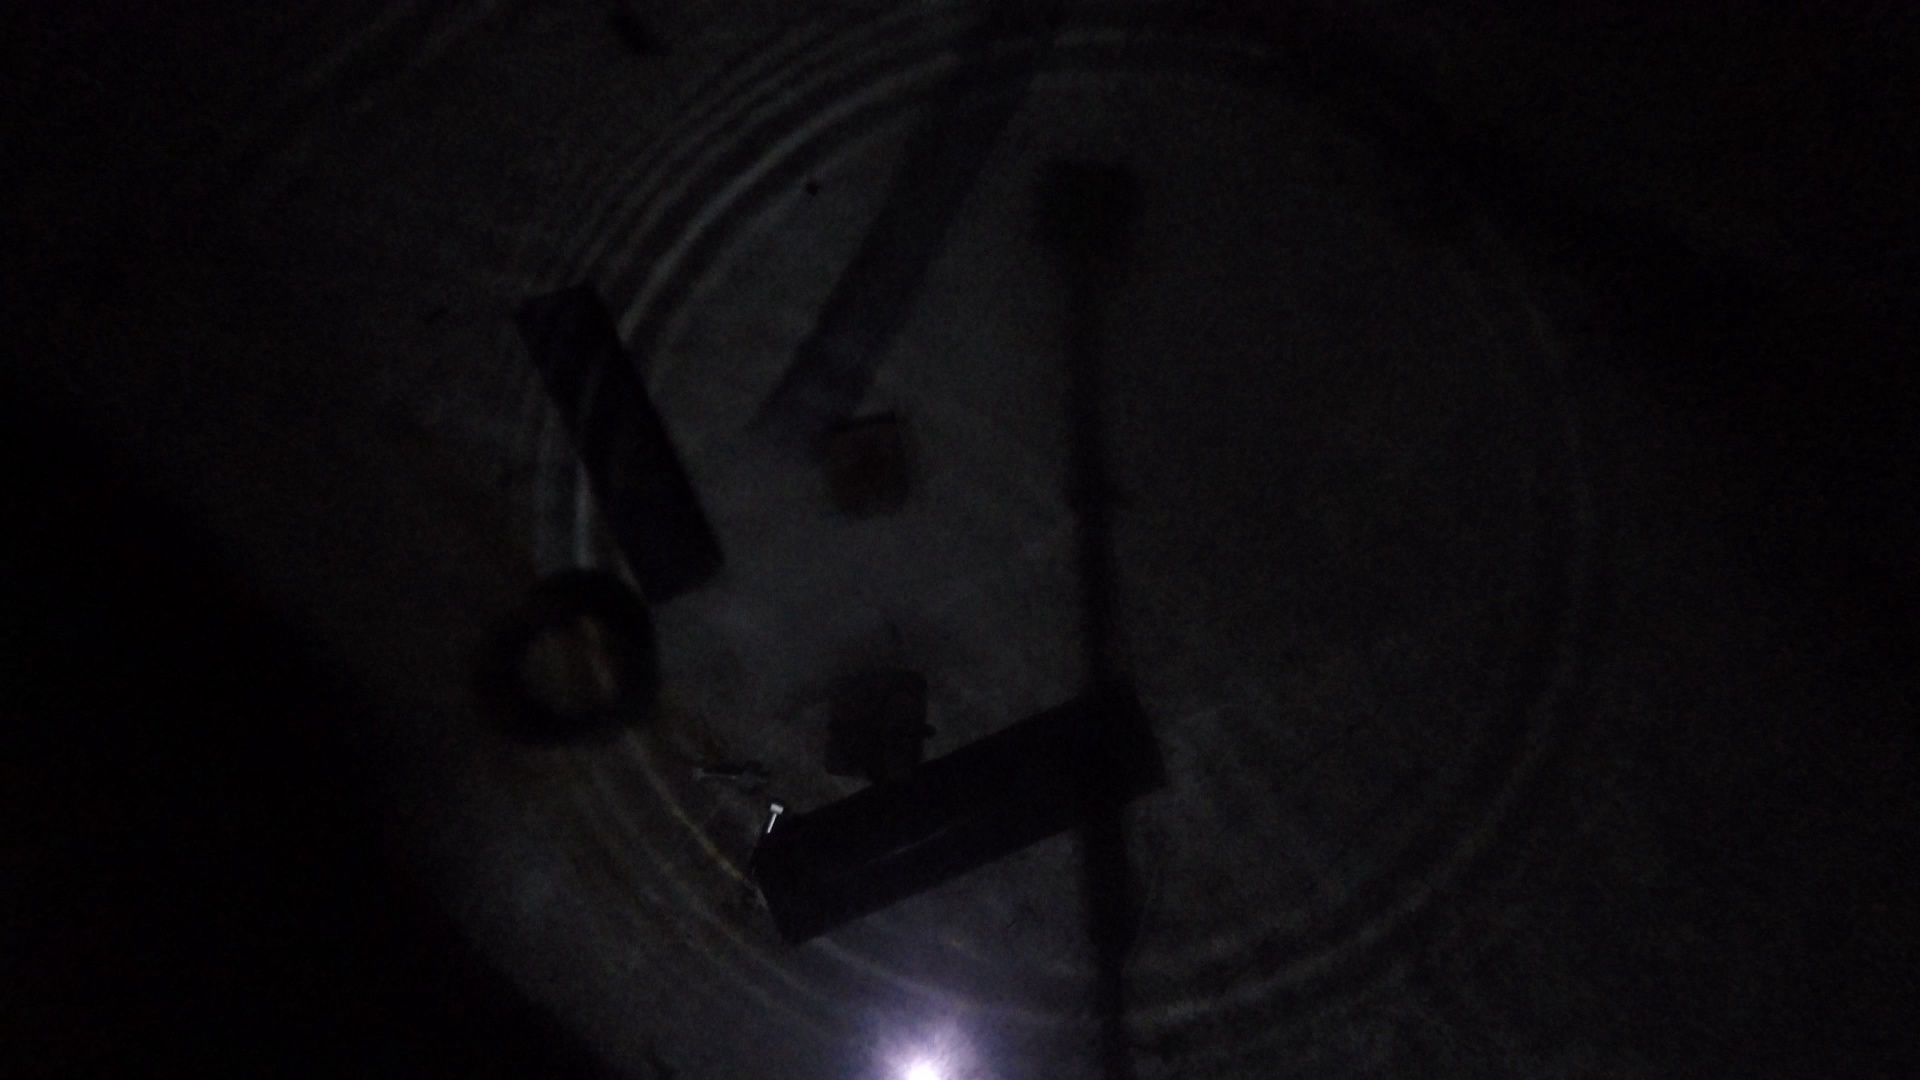bolt: (690, 760, 767, 785), (766, 799, 789, 833)
led_block: (814, 415, 907, 514)
nut: (740, 762, 756, 793)
pipe: (754, 1, 1054, 468), (754, 678, 1164, 945), (513, 282, 728, 599), (483, 568, 658, 746)
